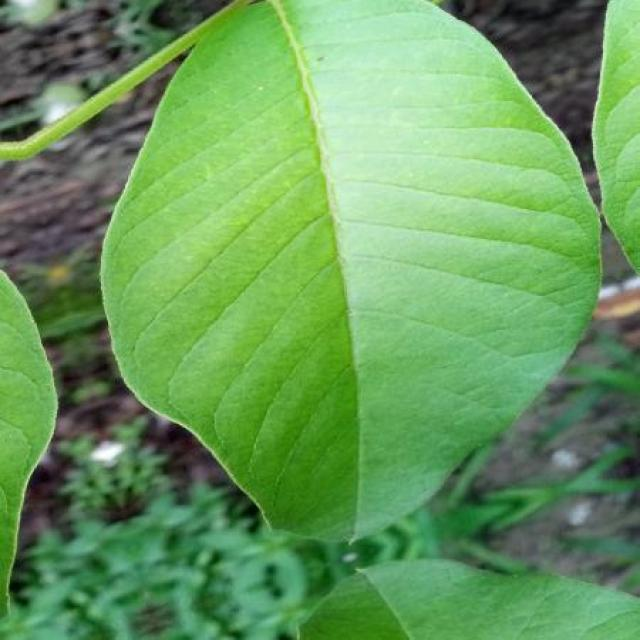Disease Free: (0, 0, 599, 538), (300, 560, 640, 640), (0, 272, 56, 606)
